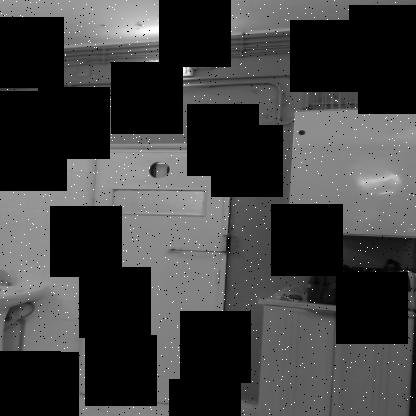Porte: (66, 140, 236, 416)
